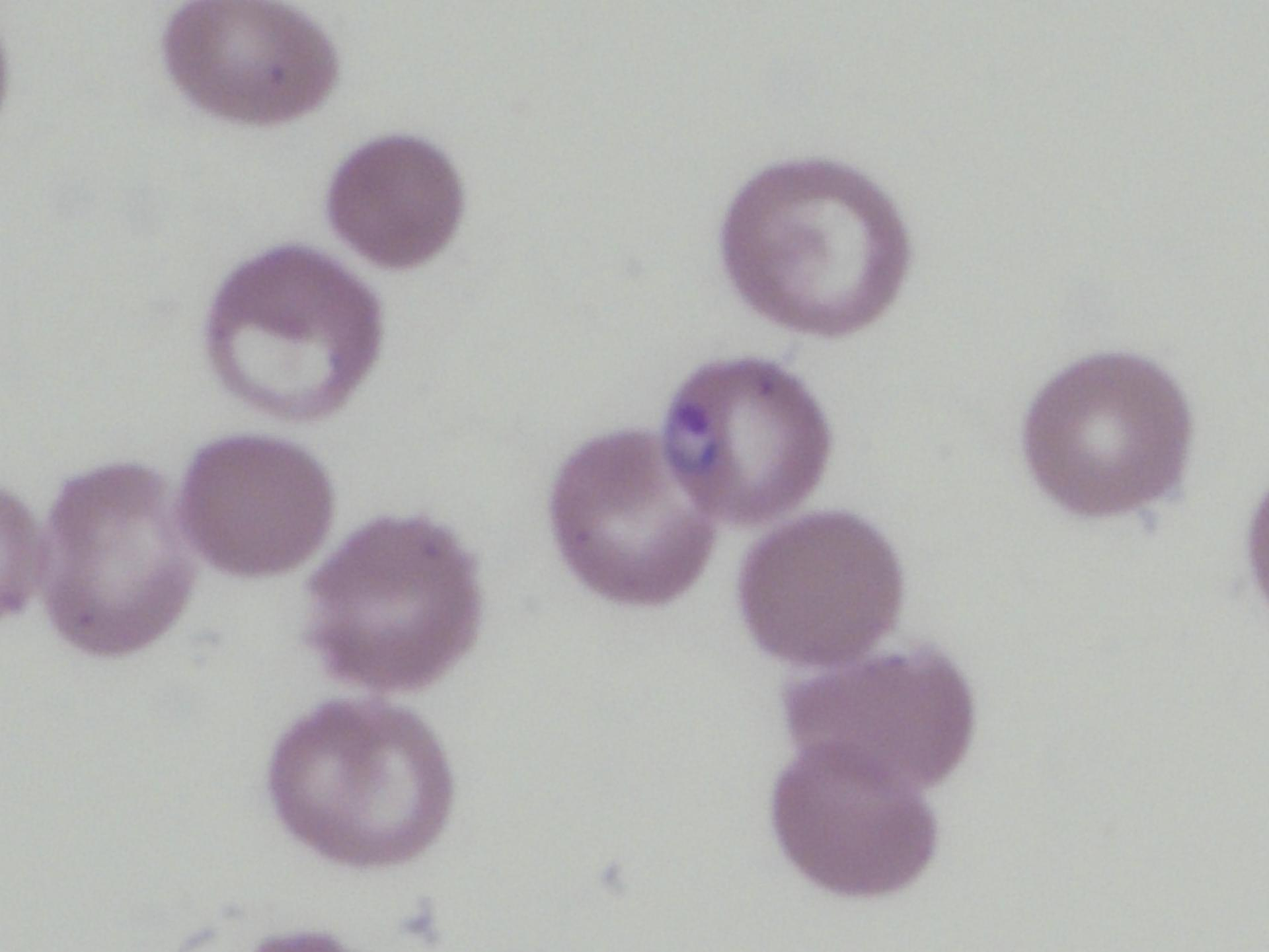Infected: (668, 360, 826, 520)
Uninfected: (268, 702, 449, 866), (725, 166, 903, 332), (307, 517, 477, 687), (42, 466, 194, 653), (207, 250, 375, 415), (552, 431, 714, 602), (1024, 353, 1190, 512), (779, 646, 966, 780), (741, 515, 900, 663), (775, 752, 937, 894), (178, 435, 330, 578), (163, 0, 341, 118), (335, 139, 463, 270)
